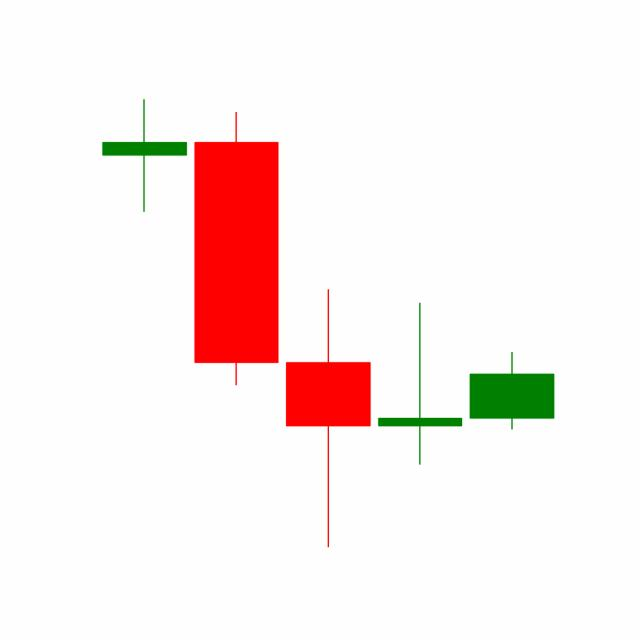Spinning Top: (373, 301, 467, 467)
